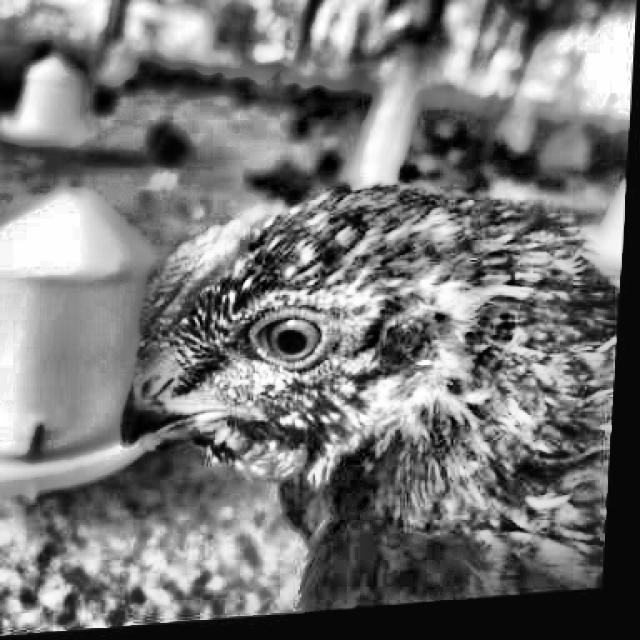Healthy: (248, 300, 345, 382)
